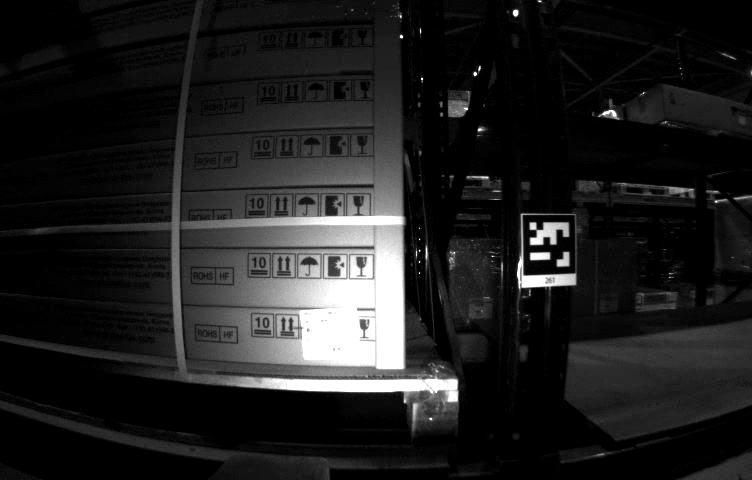True Barcode: (299, 309, 362, 358)
